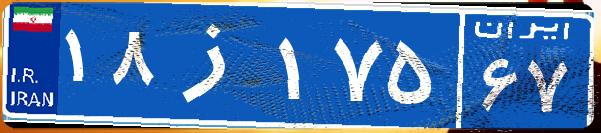1: (273, 28, 330, 110), (57, 26, 110, 107)
5: (385, 28, 445, 110)
6: (475, 38, 525, 113)
7: (330, 28, 385, 110), (525, 38, 570, 115)
8: (110, 28, 158, 105)
ز: (158, 15, 273, 115)
